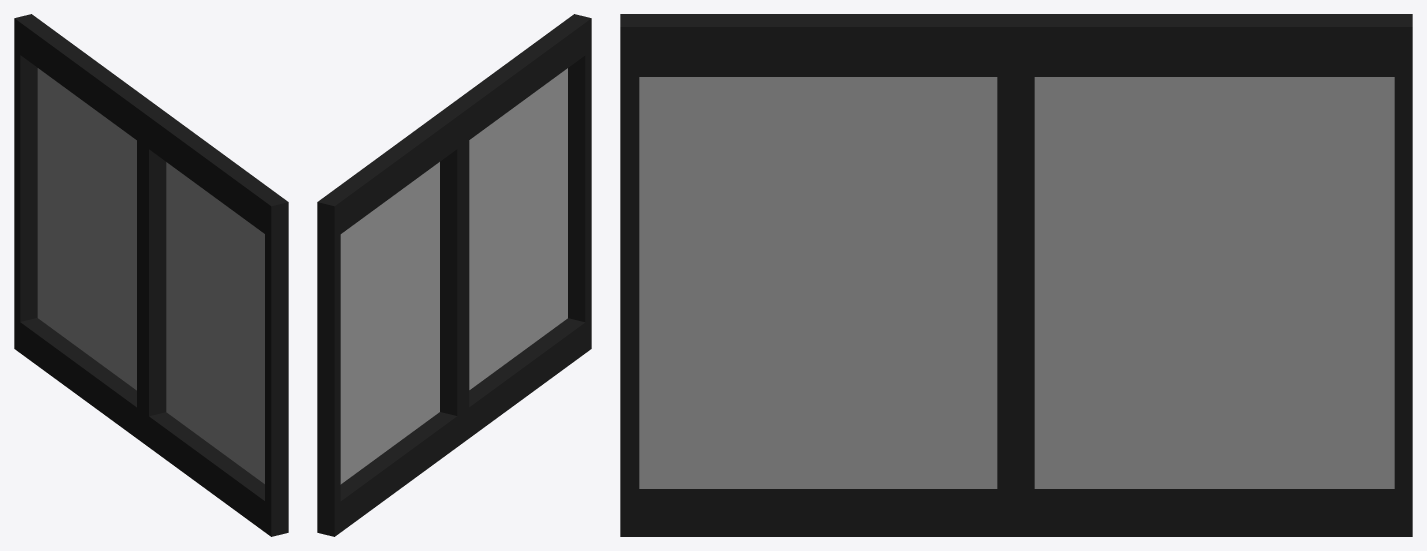
Rendered from Glass_Window_Wall_Mrt.fbx.
3 views of the same model, side by side, from view 1: azimuth 30°, elevation 25°; view 2: azimuth 150°, elevation 25°; view 3: azimuth 270°, elevation 25° (orthographic). The views are drawn at different scales.
Visible parts, largest first — view 1: Window, WindowWall; view 2: Window, WindowWall; view 3: Window, WindowWall.
Boxes of the visible parts, x1,y1,x2,y2 form: Window: (37, 68, 264, 483); WindowWall: (14, 14, 288, 536); Window: (340, 68, 567, 484); WindowWall: (317, 14, 591, 536); Window: (639, 77, 1394, 488); WindowWall: (620, 14, 1412, 536).
Size of the model in its own units: 11.67 by 214 by 301.
